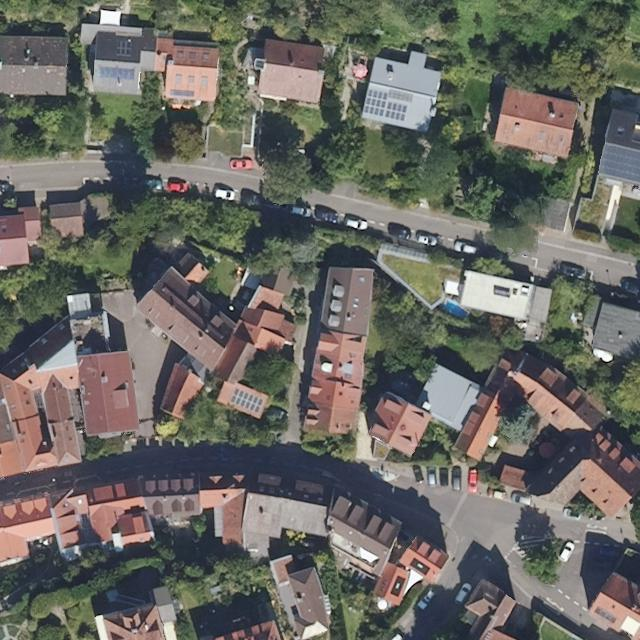PV: (362, 88, 409, 123), (597, 143, 639, 182), (230, 388, 264, 414), (99, 66, 136, 81), (593, 606, 617, 624), (116, 38, 132, 60), (169, 90, 194, 97)
